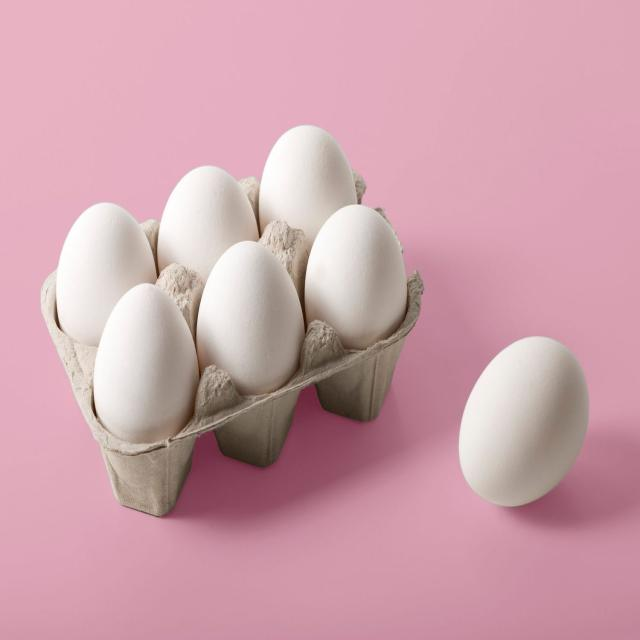eggs: (459, 333, 589, 507), (92, 283, 201, 442), (196, 240, 306, 395), (305, 204, 407, 351), (56, 202, 158, 347), (258, 126, 358, 252), (157, 165, 259, 286)
